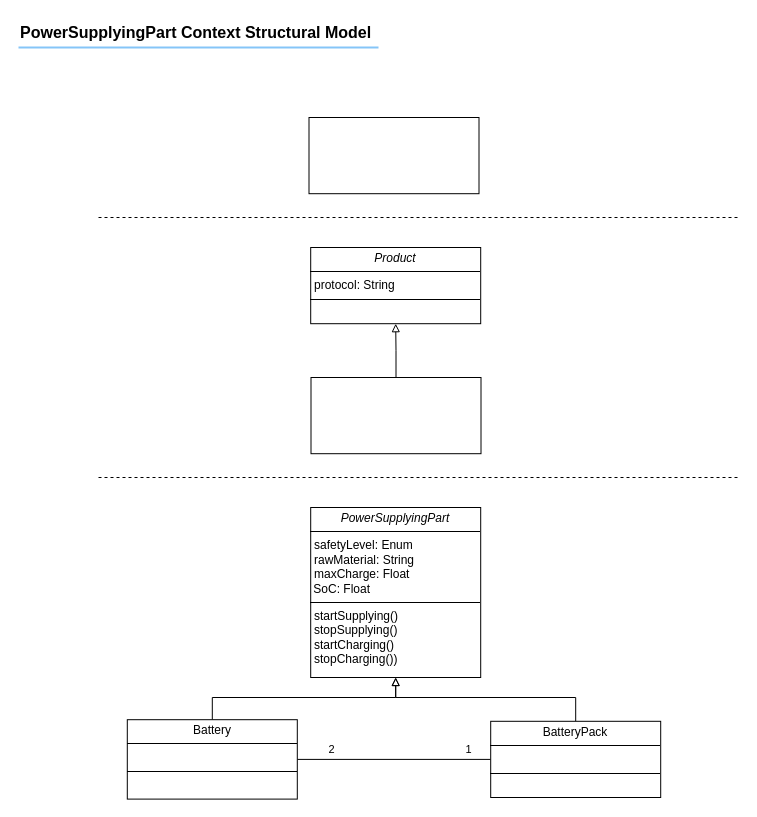
The diagram is 757 pixels wide and 817 high, and some of its shapes have lost their labels. Here are the shapes that lost their labels. From the top down, the centre of each, then its label:
the point at 393,155: ProductType maker: String ID: String
the point at 395,415: ECarPart
